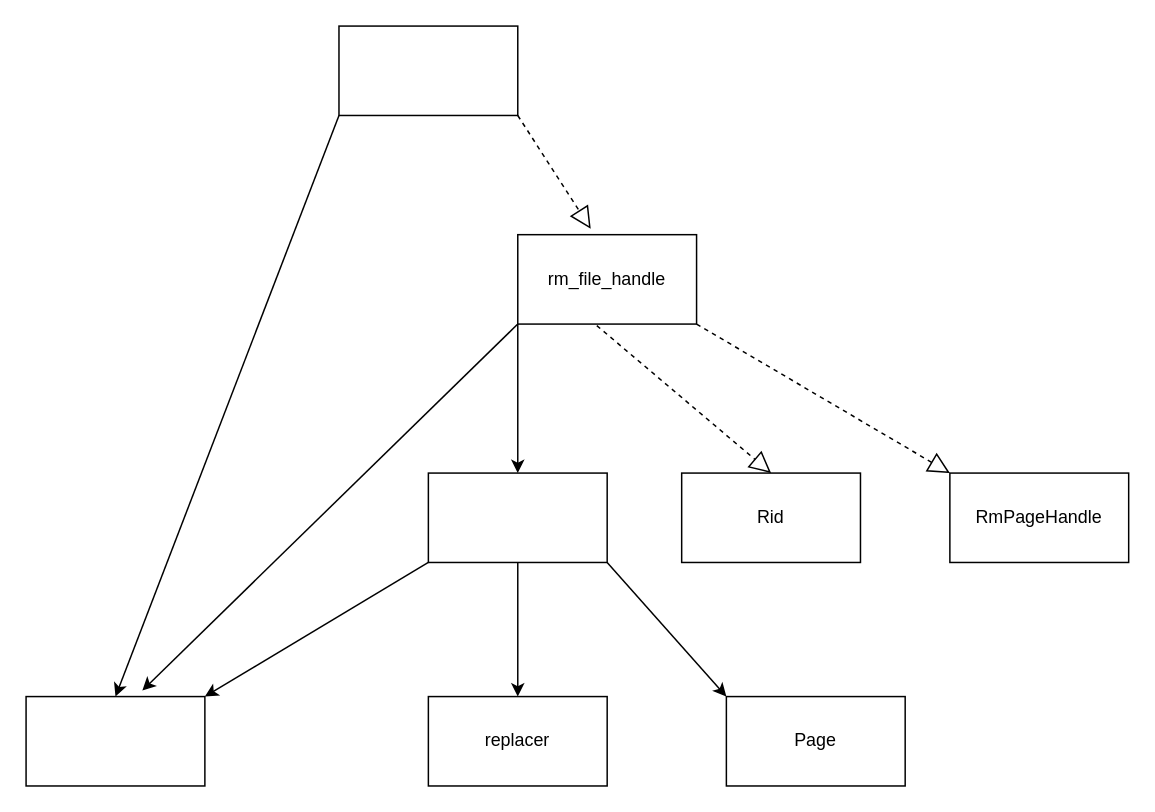
Some shapes in this 1155 by 812 pixel diagram are drawn without their labels. The centre of each missing label's shape, as x and y in pixels:
"buffer_pool_manager" goes at point 517,517.
"disk_manager" goes at point 115,740.
"rm_manager" goes at point 427,70.
